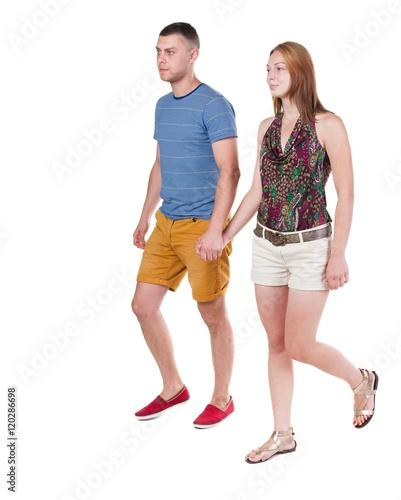Shorts: (133, 208, 232, 303), (250, 220, 340, 292)
short sleeve shirt: (151, 82, 239, 221)
vest: (254, 108, 333, 233)
